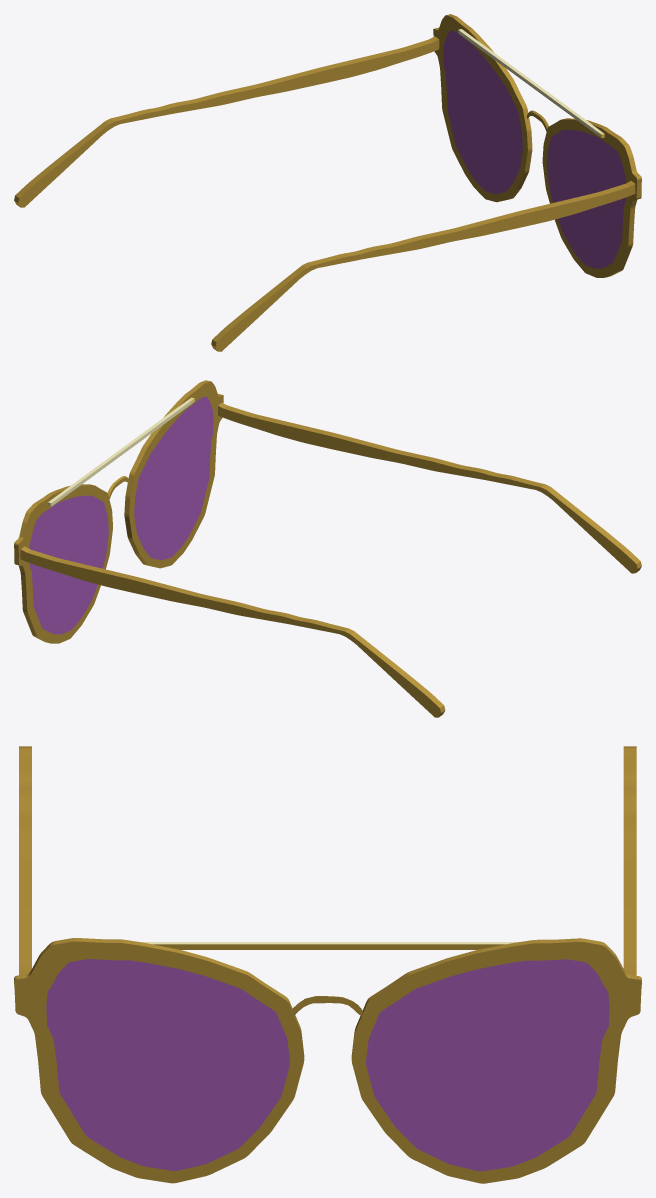
The model's file is goldSG.glb.
The picture shows the model from 3 angles, top to bottom: view 1: azimuth 30°, elevation 25°; view 2: azimuth 150°, elevation 25°; view 3: azimuth 270°, elevation 25°; orthographic projection. The views are drawn at different scales.
Visible parts, largest first — view 1: Circle.002, Circle, Circle.007, Circle.008, Circle.005, Circle.006, Cube; view 2: Circle, Circle.002, Circle.008, Circle.007, Circle.005, Circle.006, Cube; view 3: Circle, Circle.002, Circle.003, Circle.001, Circle.005, Circle.006, Cube.
Part boxes in pixels (x1=…): Circle.002: x1=433, y1=14, x2=532, y2=202; Circle: x1=542, y1=118, x2=641, y2=277; Circle.007: x1=443, y1=30, x2=522, y2=193; Circle.008: x1=547, y1=130, x2=625, y2=268; Circle.005: x1=14, y1=36, x2=439, y2=207; Circle.006: x1=211, y1=181, x2=635, y2=351; Cube: x1=458, y1=29, x2=604, y2=138; Circle: x1=124, y1=380, x2=223, y2=568; Circle.002: x1=14, y1=484, x2=112, y2=643; Circle.008: x1=134, y1=396, x2=213, y2=560; Circle.007: x1=29, y1=495, x2=108, y2=634; Circle.005: x1=20, y1=546, x2=445, y2=717; Circle.006: x1=218, y1=402, x2=641, y2=573; Cube: x1=48, y1=397, x2=194, y2=506; Circle: x1=14, y1=938, x2=304, y2=1183; Circle.002: x1=351, y1=938, x2=641, y2=1183; Circle.003: x1=366, y1=959, x2=609, y2=1171; Circle.001: x1=46, y1=959, x2=289, y2=1170; Circle.005: x1=623, y1=746, x2=636, y2=975; Circle.006: x1=19, y1=746, x2=31, y2=975; Cube: x1=141, y1=942, x2=518, y2=949.
Size of the model in its own units: 3.34 by 1.18 by 2.78.
2 materials, 2 textured.
